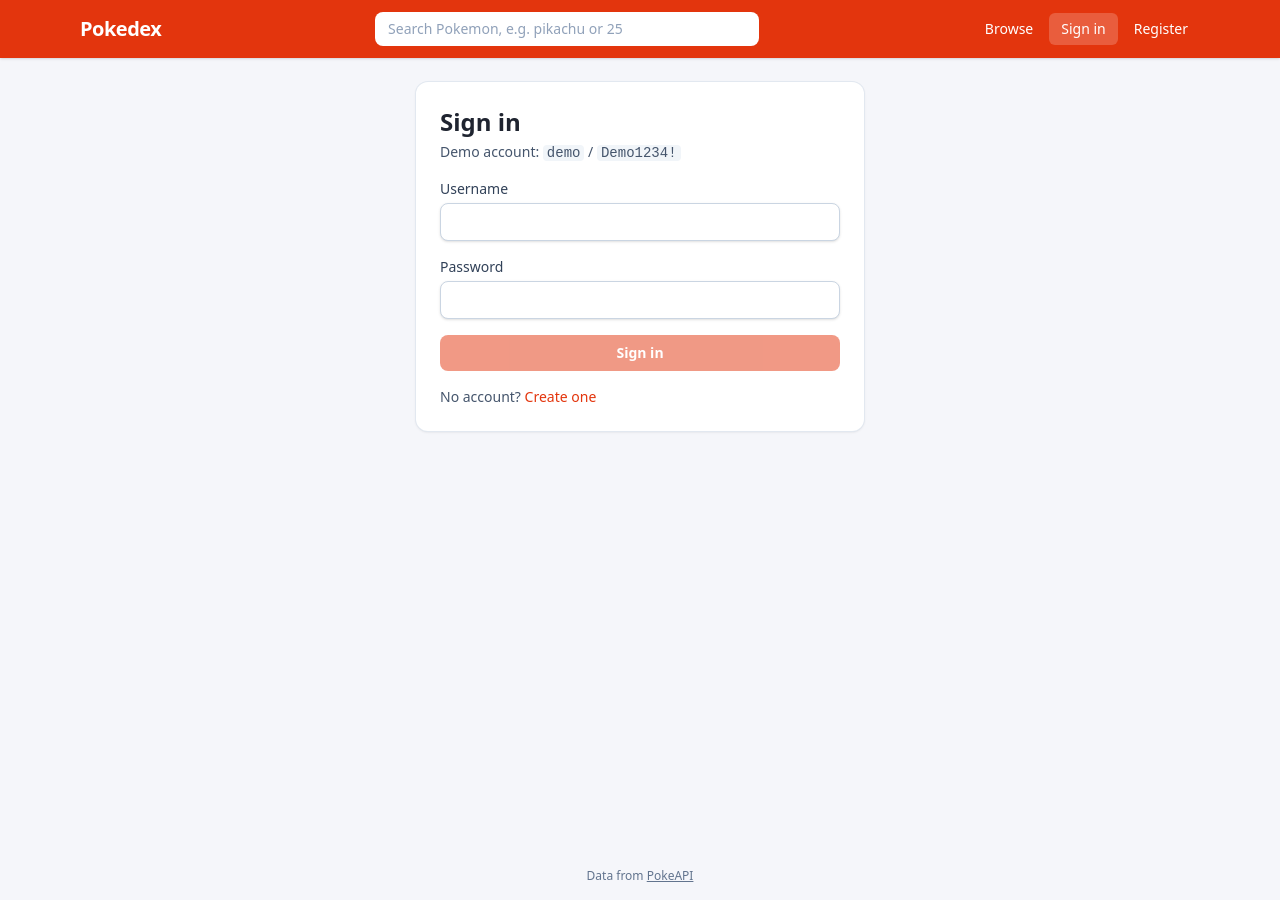
Scenario: authentication › signs in, stores the token and returns to the originally requested page
Type "demo" into the field labelled "Username" at (640,222), box x1=440 y1=203 x2=840 y2=241
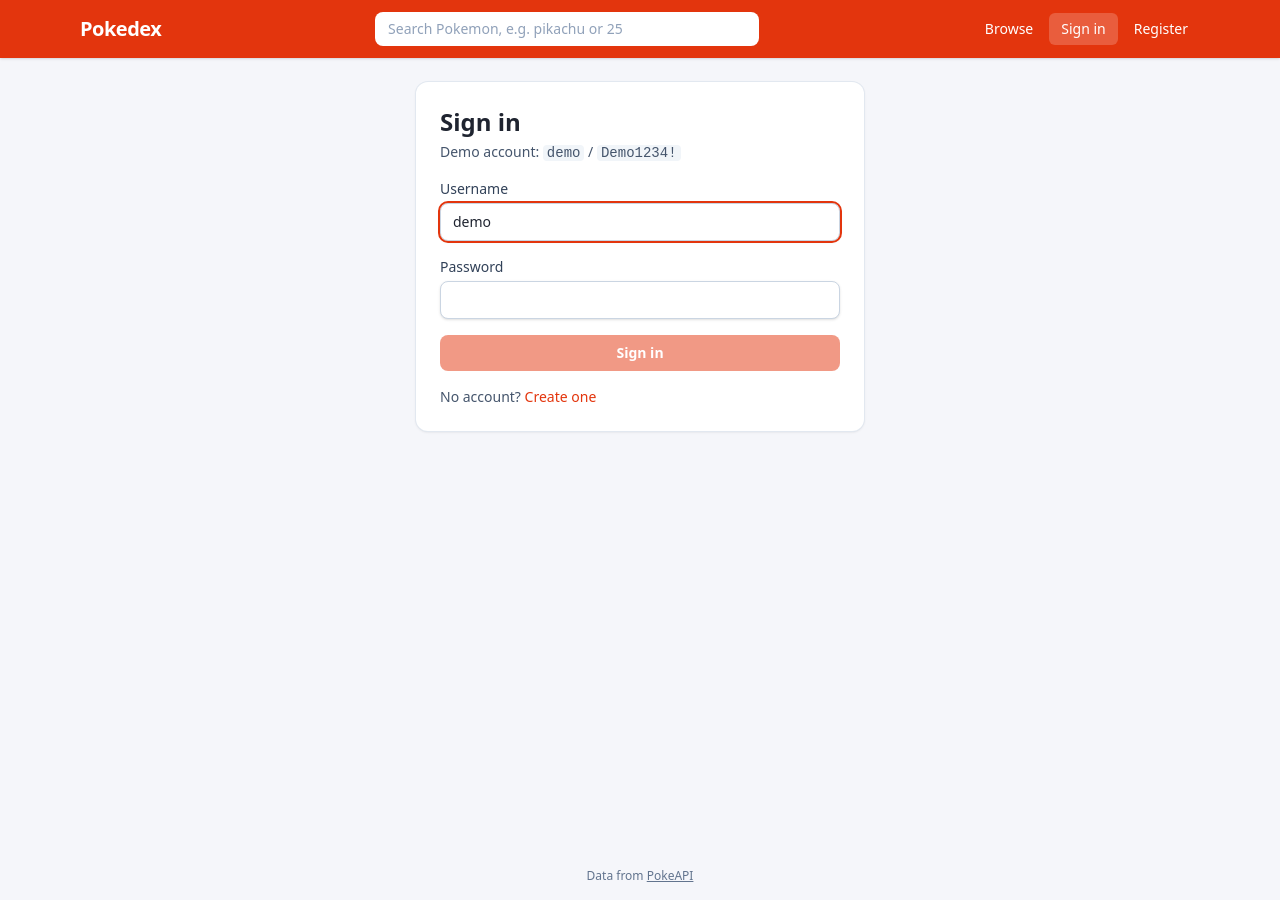
Type "Demo1234!" into the password field labelled "Password" at (640,300), box x1=440 y1=281 x2=840 y2=319
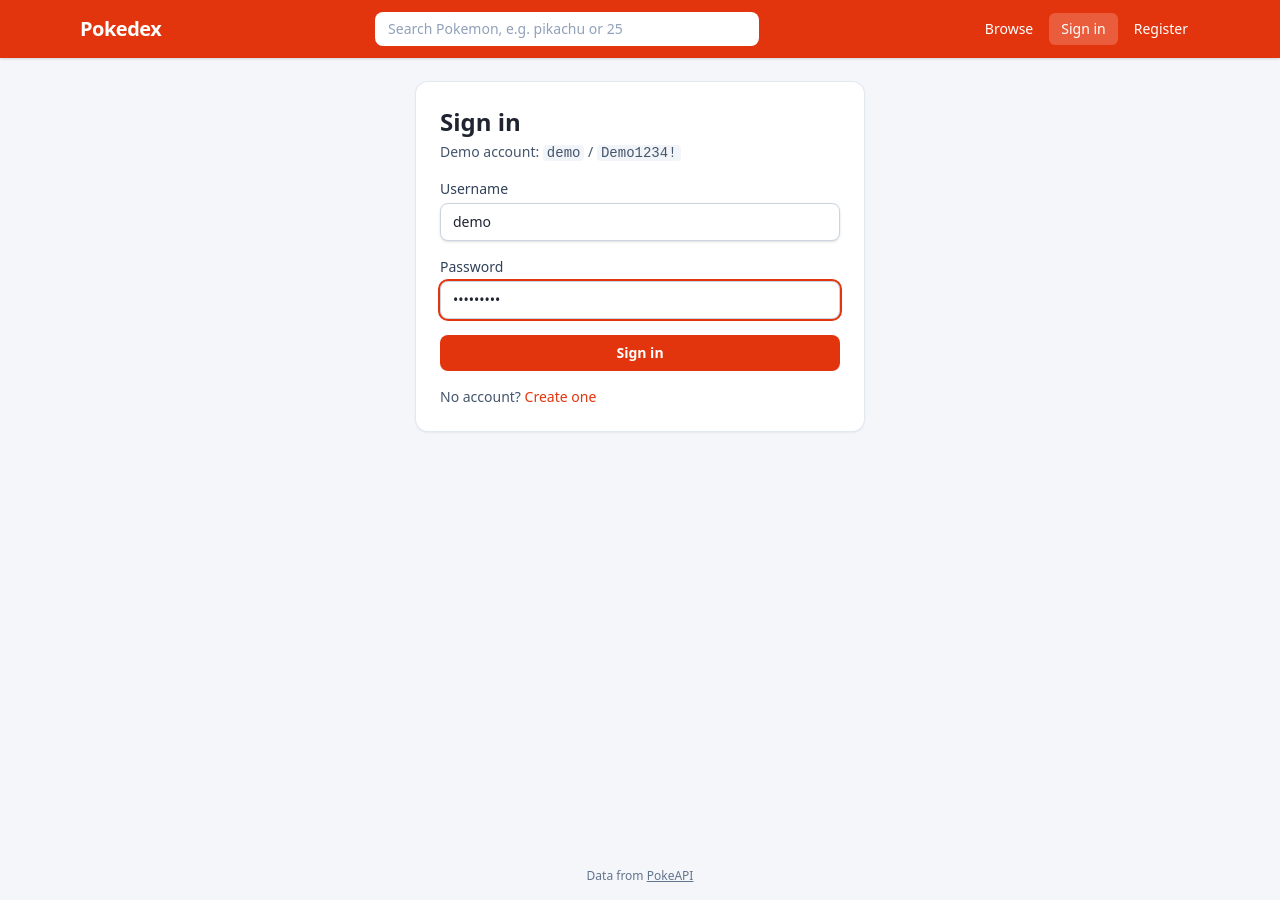
Click the button "Sign in" at (640,353), box x1=440 y1=335 x2=840 y2=371
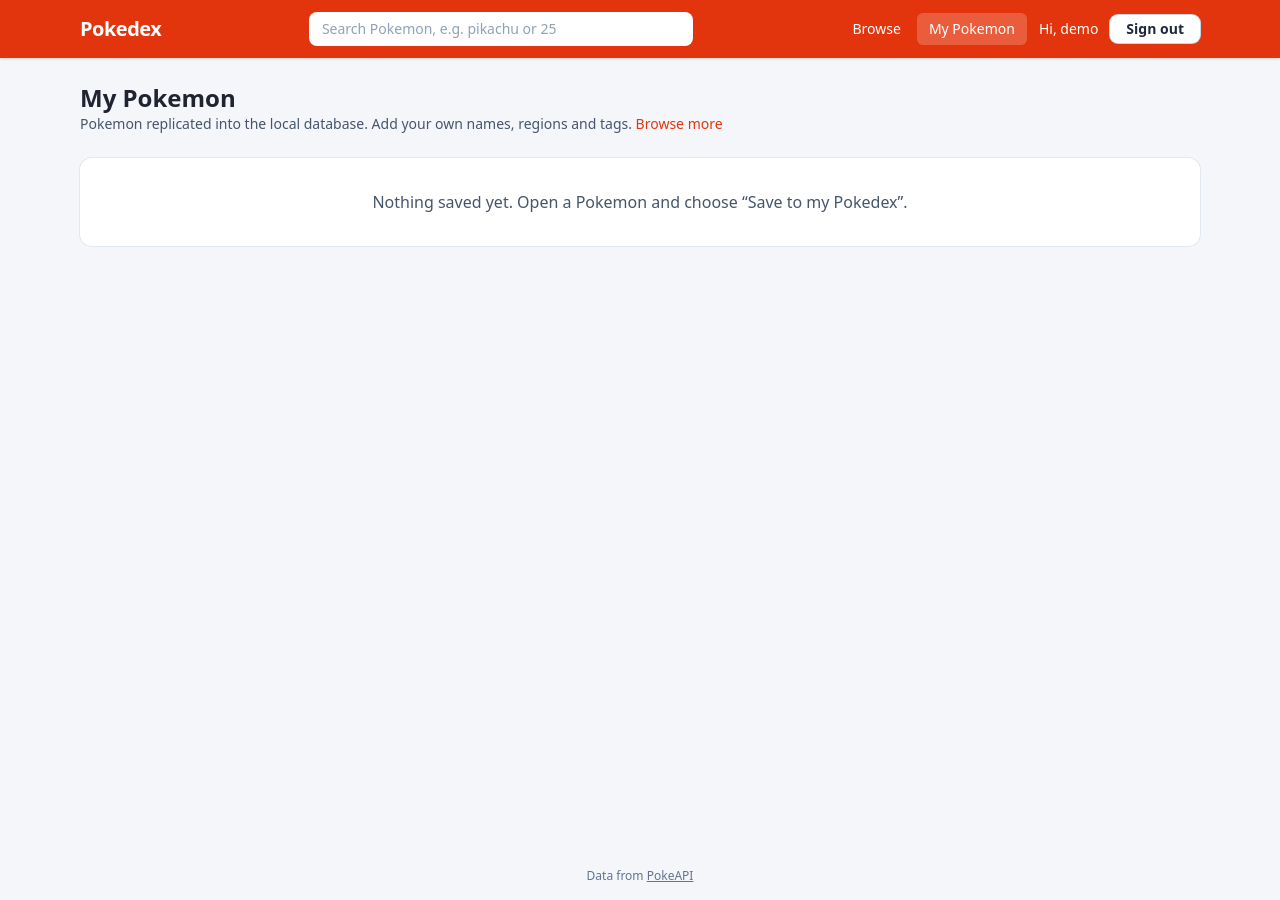
Expected: the heading "My Pokemon" is shown, x1=80 y1=81 x2=236 y2=114
Expected: the text "Hi, demo" is shown, x1=1039 y1=19 x2=1098 y2=39
